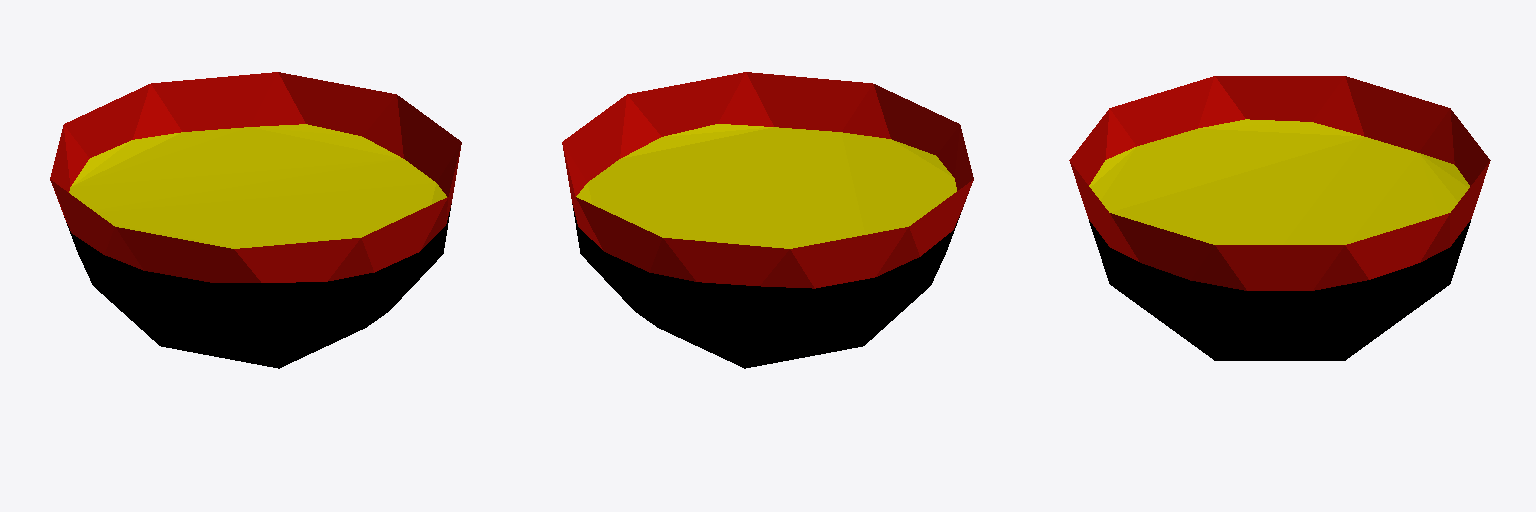
Rendered from soup.obj.
3 views of the same model, side by side, from view 1: azimuth 30°, elevation 25°; view 2: azimuth 150°, elevation 25°; view 3: azimuth 270°, elevation 25° (orthographic).
Visible parts, largest first — view 1: Icosphere; view 2: Icosphere; view 3: Icosphere.
Part boxes in pixels (x1,y1,x2,y2): Icosphere: (50, 72, 461, 368); Icosphere: (562, 72, 973, 368); Icosphere: (1069, 76, 1490, 360).
Bounding box in the file's own units: 1.9 × 1 × 2.